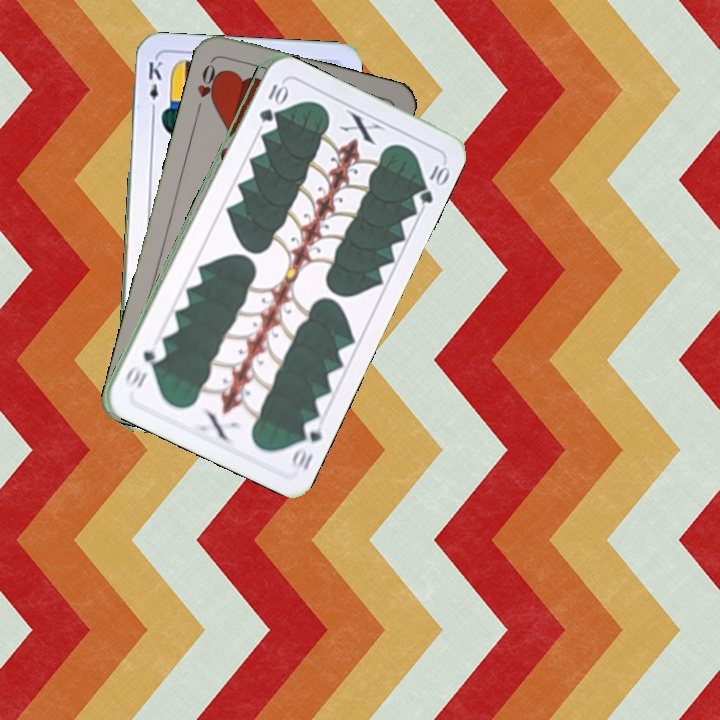EK: (144, 57, 166, 116)
G10: (287, 414, 326, 474), (255, 80, 286, 125)
HO: (192, 58, 224, 116)
